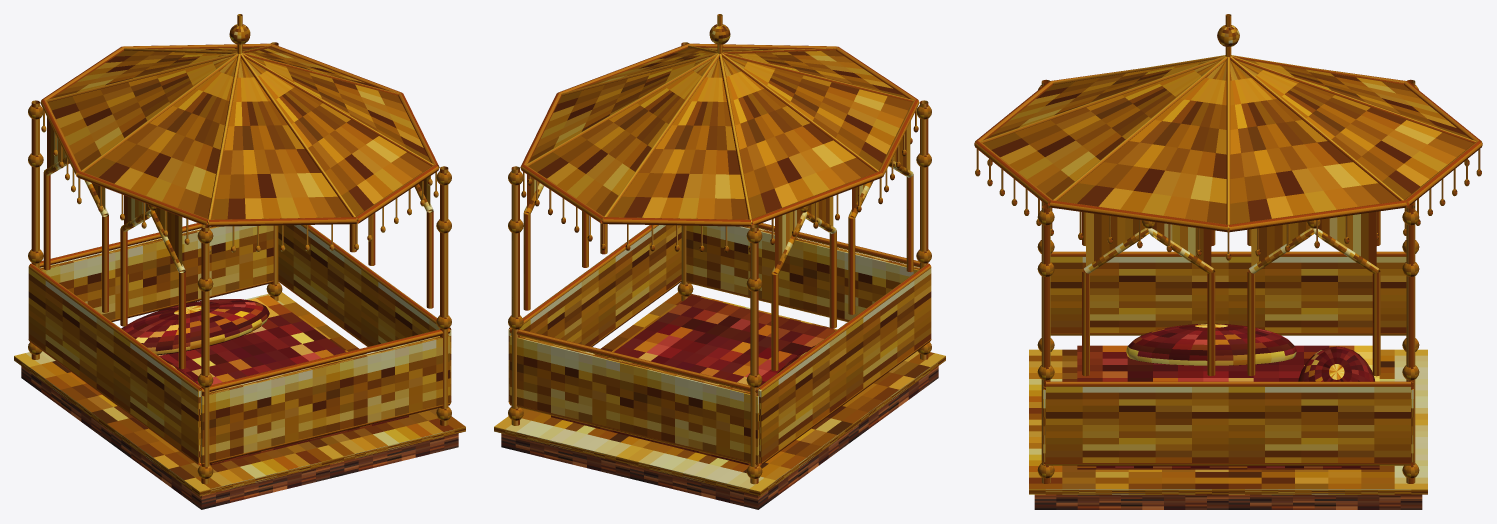
Rendered from howdah.glb.
3 views of the same model, side by side, from view 1: azimuth 30°, elevation 25°; view 2: azimuth 150°, elevation 25°; view 3: azimuth 270°, elevation 25° (orthographic). The views are drawn at different scales.
Parts seen in each view (by area): view 1: carved-seating-platform, canopy-and-fringe; view 2: carved-seating-platform, canopy-and-fringe; view 3: carved-seating-platform, canopy-and-fringe.
Part boxes in pixels (x1,y1,x2,y2): carved-seating-platform: (14, 42, 465, 509); canopy-and-fringe: (40, 14, 439, 252); carved-seating-platform: (494, 42, 945, 509); canopy-and-fringe: (520, 14, 919, 252); carved-seating-platform: (1029, 79, 1427, 509); canopy-and-fringe: (974, 14, 1482, 260).
Size of the model in its own units: 1.7 by 1.97 by 2.12.
